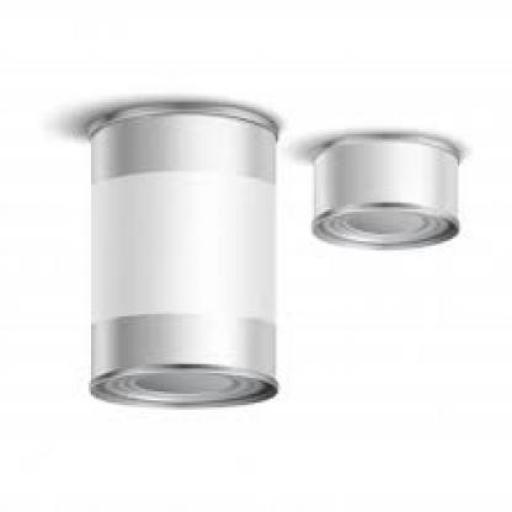metal: (89, 104, 278, 408), (310, 134, 460, 252)
